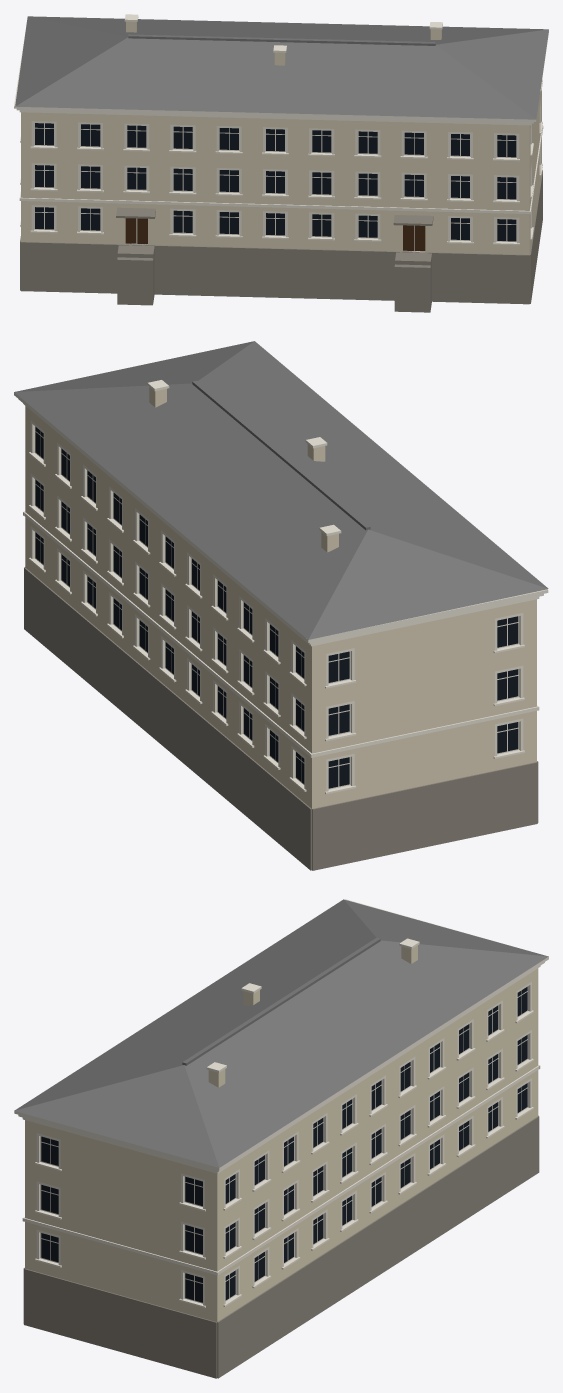
Rendered from may3.glb.
The picture shows the model from 3 angles, top to bottom: view 1: azimuth 30°, elevation 25°; view 2: azimuth 150°, elevation 25°; view 3: azimuth 270°, elevation 25°; orthographic projection. The views are drawn at different scales.
Visible parts, largest first — view 1: may3_roof, may3_wall, may3_stone, may3_trim, may3_glass, may3_wood; view 2: may3_roof, may3_wall, may3_stone, may3_trim, may3_glass; view 3: may3_roof, may3_wall, may3_stone, may3_trim, may3_glass.
Boxes of the visible parts, x1=… form: may3_roof: x1=15, y1=16, x2=548, y2=119; may3_wall: x1=21, y1=21, x2=541, y2=254; may3_stone: x1=20, y1=170, x2=542, y2=312; may3_trim: x1=14, y1=14, x2=548, y2=252; may3_glass: x1=35, y1=123, x2=516, y2=241; may3_wood: x1=125, y1=218, x2=425, y2=251; may3_roof: x1=14, y1=341, x2=548, y2=639; may3_wall: x1=25, y1=387, x2=536, y2=808; may3_stone: x1=24, y1=567, x2=538, y2=870; may3_trim: x1=14, y1=380, x2=548, y2=794; may3_glass: x1=35, y1=427, x2=518, y2=788; may3_roof: x1=14, y1=899, x2=548, y2=1167; may3_wall: x1=25, y1=945, x2=538, y2=1321; may3_stone: x1=23, y1=1115, x2=539, y2=1378; may3_trim: x1=14, y1=899, x2=548, y2=1307; may3_glass: x1=41, y1=986, x2=527, y2=1302.
Size of the model in its own units: 37.05 by 16.24 by 31.16.
